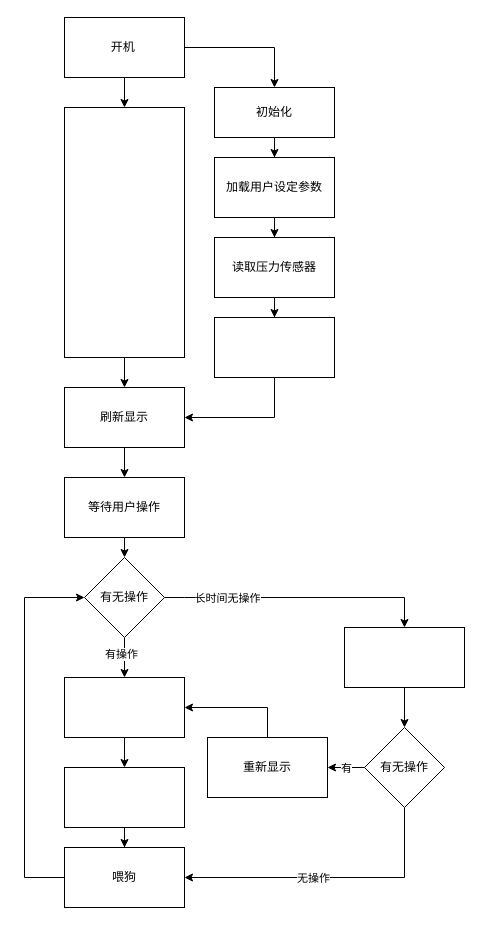
This 482x925 diagram has some shape labels left out. Each missing label, with the centre of its shape:
"关闭显示" belongs at (404,657).
"完成初始化任务" belongs at (274,347).
"执行用户操作" belongs at (124,707).
"显示开机界面" belongs at (124,232).
"结束操作" belongs at (124,797).
